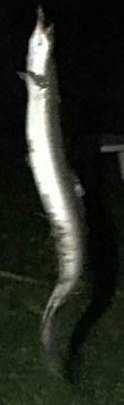Anguilla anguilla: (20, 20, 104, 385)
